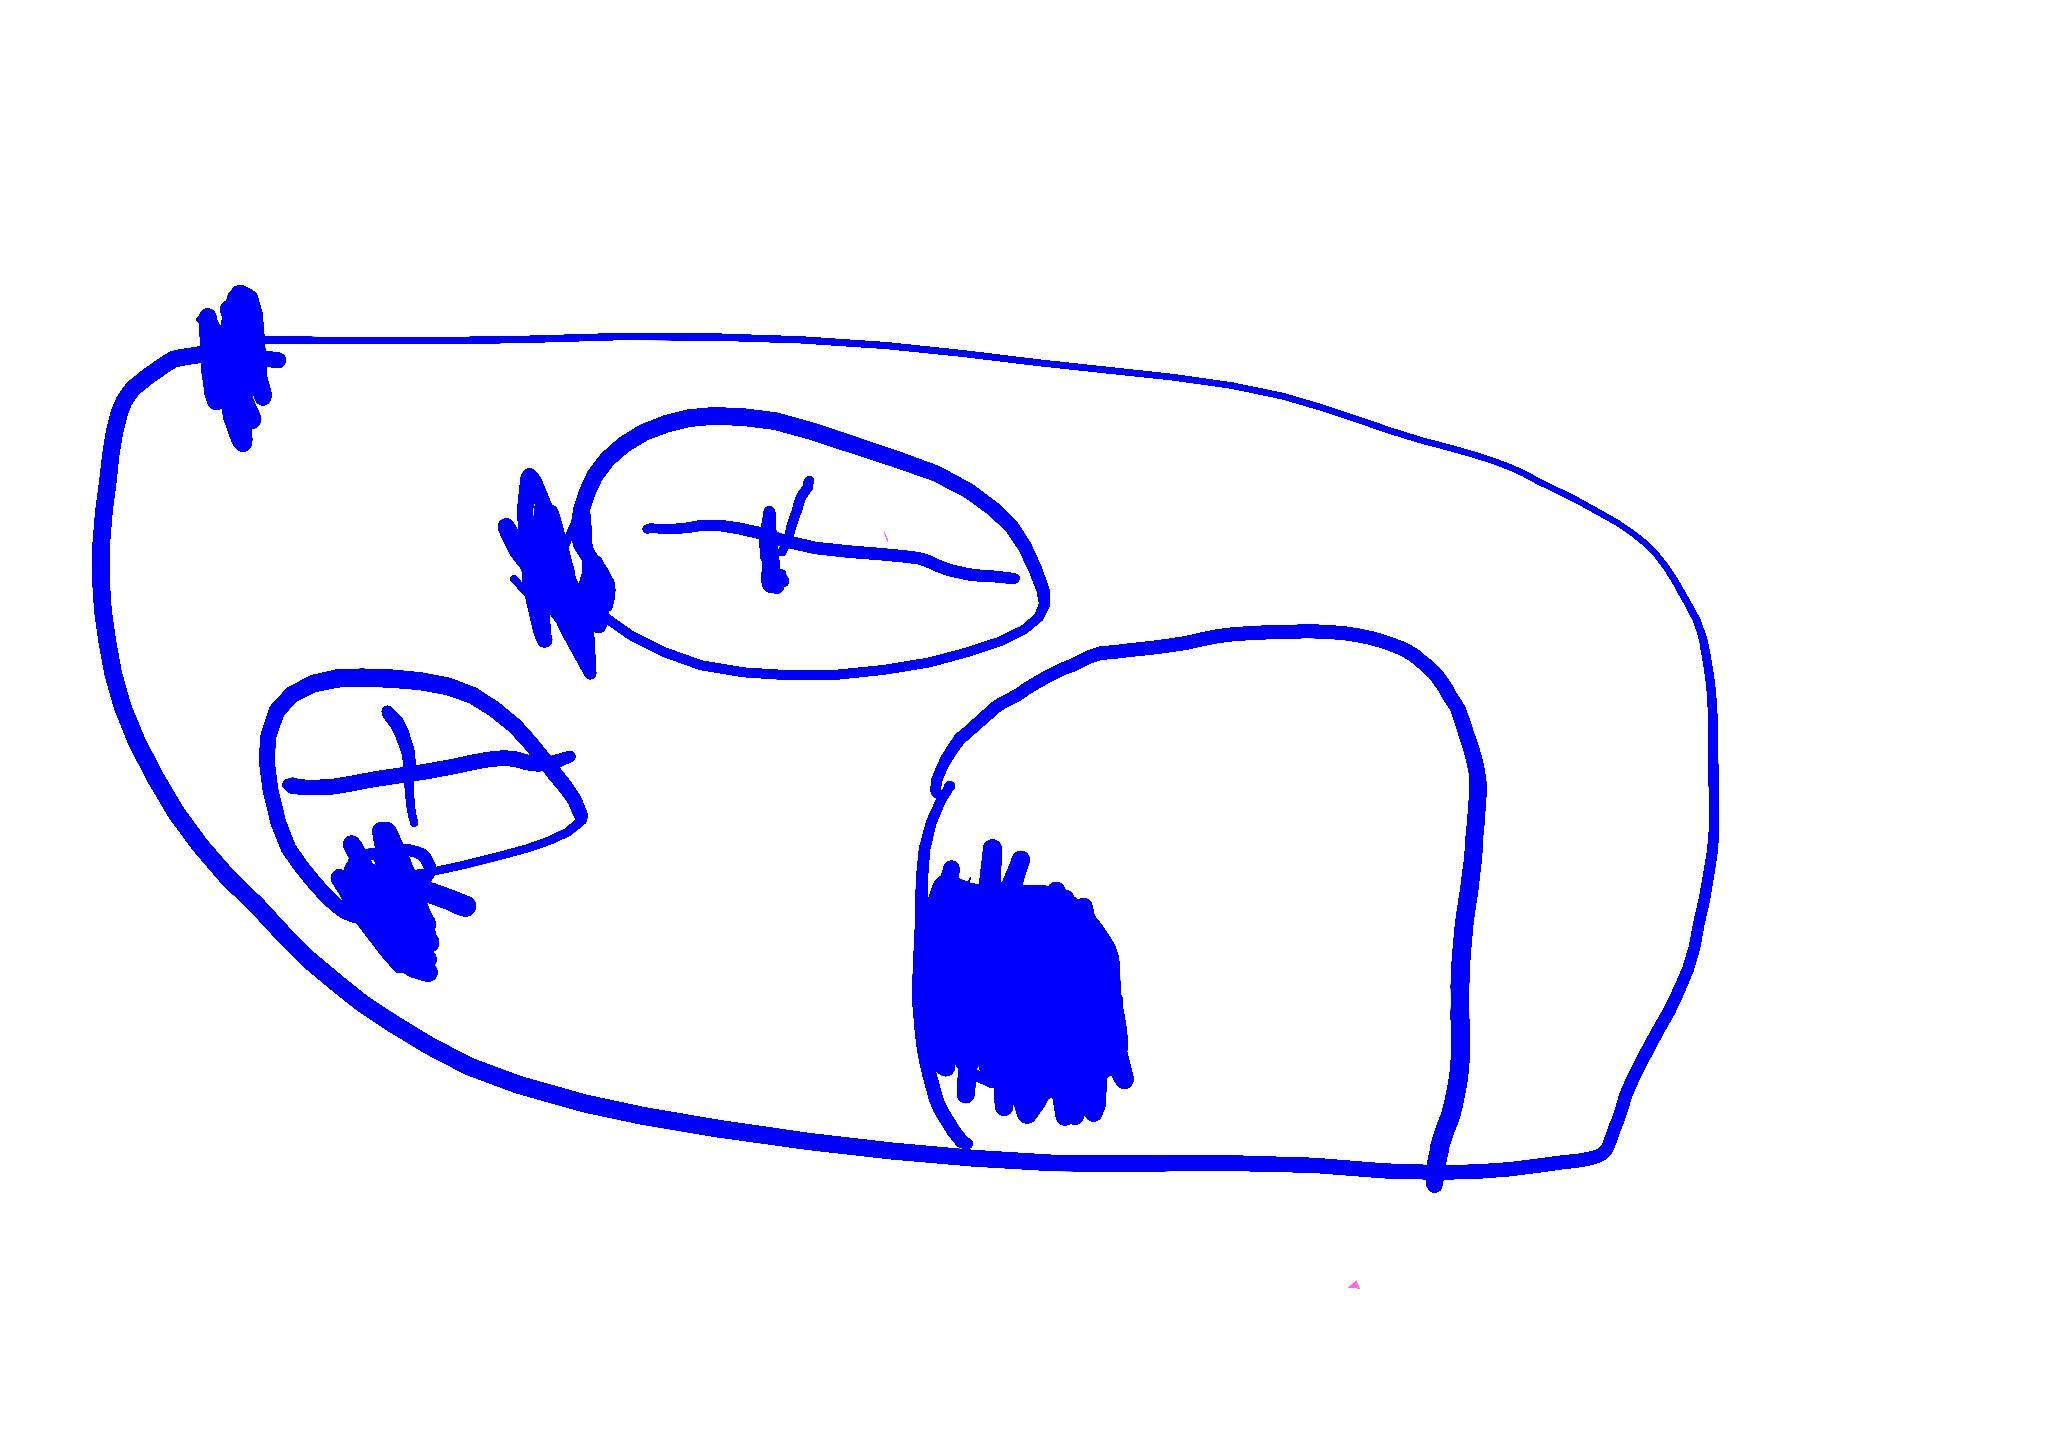door: (913, 624, 1490, 1184)
house: (91, 309, 1720, 1190)
wall: (91, 325, 1722, 1190)
window: (497, 405, 1048, 677), (257, 668, 586, 983)
